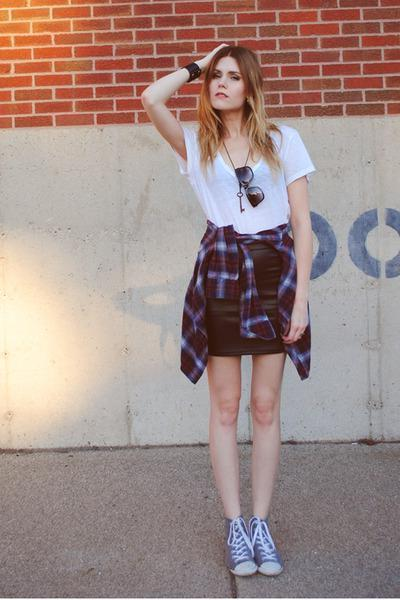short sleeve shirt: (164, 116, 315, 237)
skirt: (202, 232, 294, 359)
